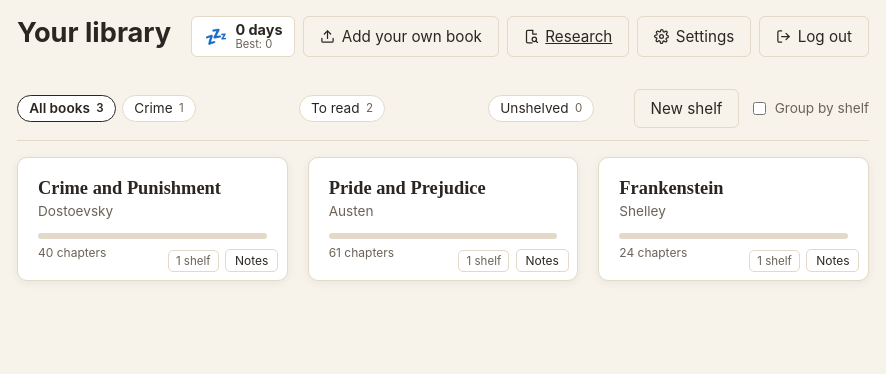
it: making and changing shelves › reports a failure without taking the library down
Click the button "New shelf": {"x": 687, "y": 108} [634,89,740,128]
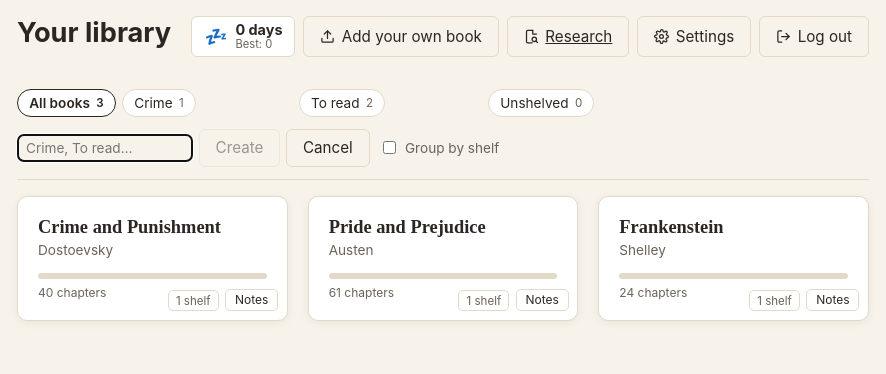
In the field named "Name for the new shelf": {"x": 105, "y": 148} [17,134,193,162], type "Crime"
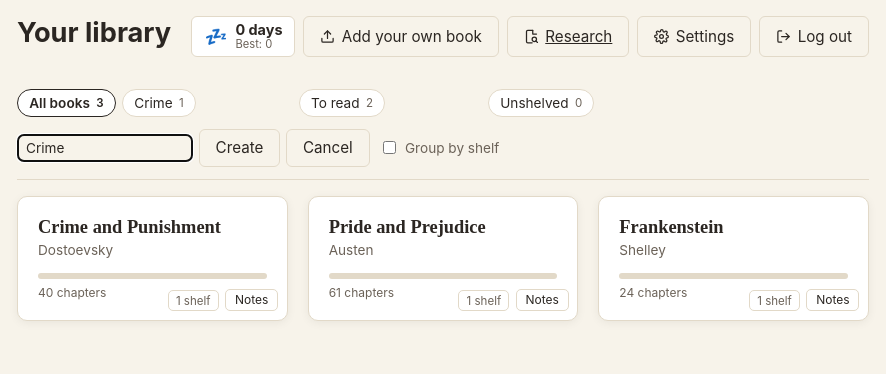
Click the button "Create": {"x": 240, "y": 148} [199,129,280,167]
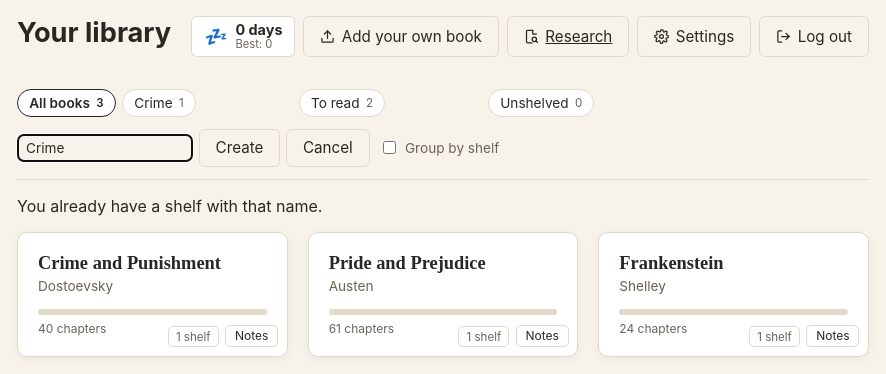
Now the message reads "You already have a shelf with that name.", box [17,196,322,216]
